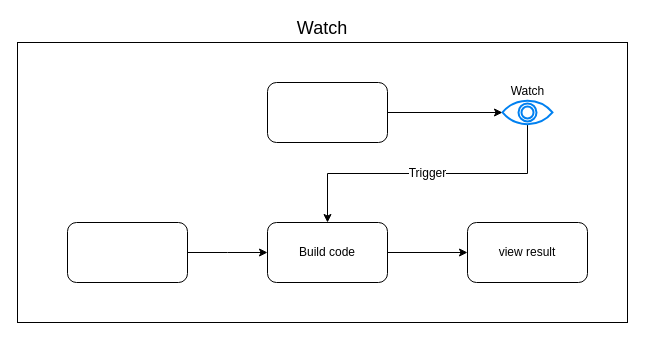
This 645x340 diagram has some shape labels left out. Each missing label, with the box of its shape:
Modify Code: (266, 82, 388, 142)
Start server: (66, 222, 188, 282)
